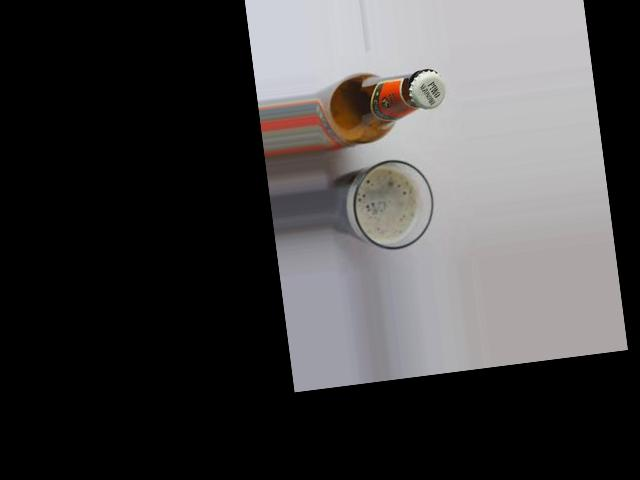beer: (310, 63, 451, 153)
